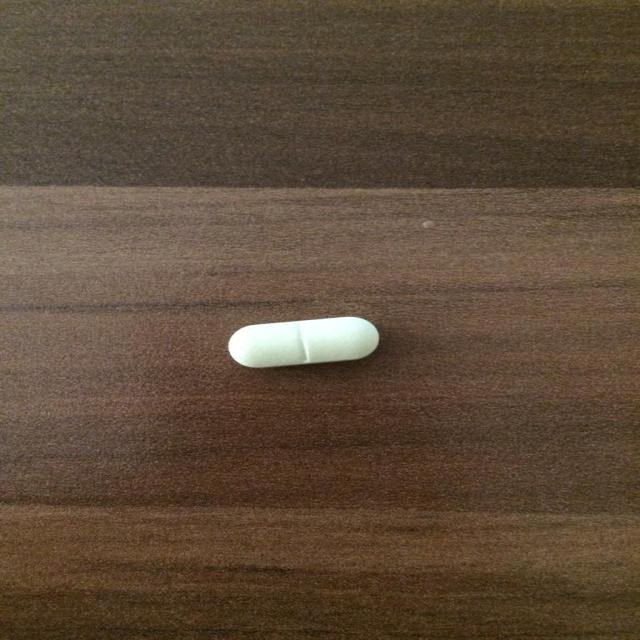pills: (217, 305, 389, 381)
